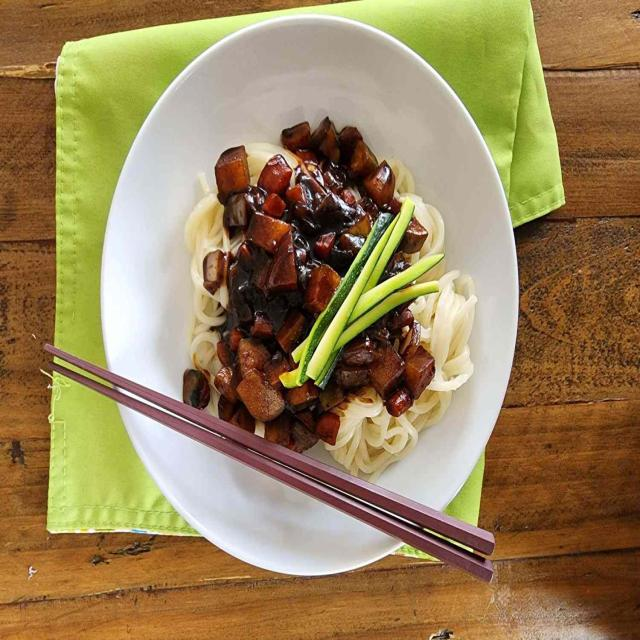carb: (331, 266, 477, 481), (186, 176, 245, 414), (390, 159, 446, 256), (247, 144, 299, 185)
meat: (204, 119, 435, 453), (185, 369, 211, 408)
vegetable: (281, 199, 445, 389)
